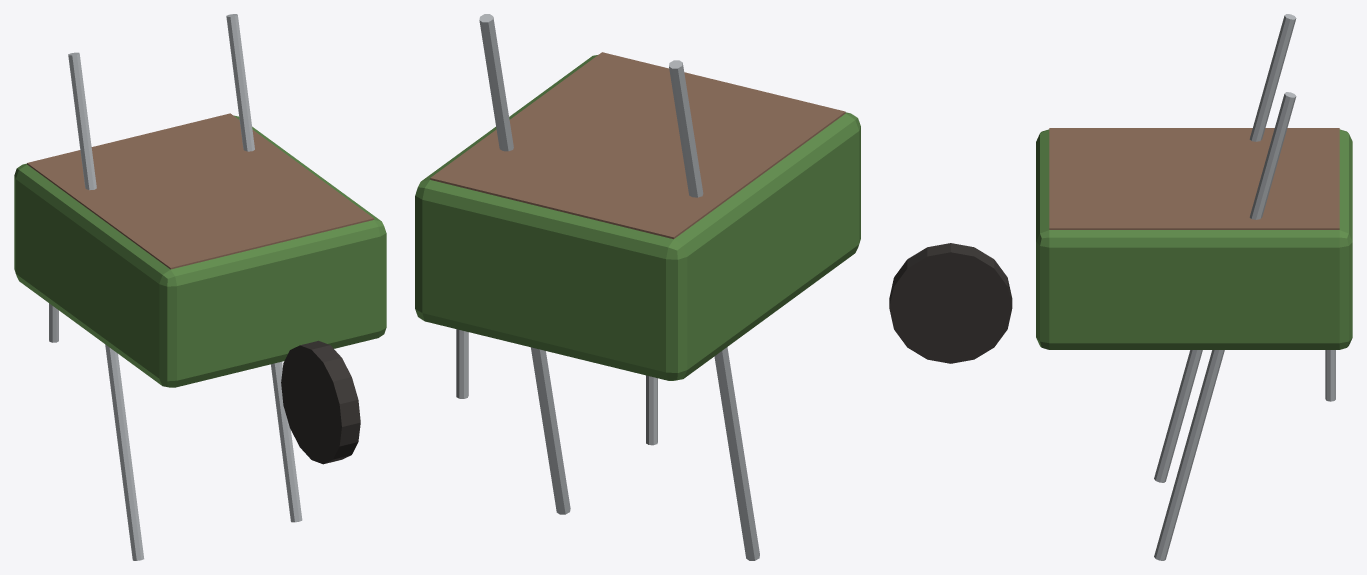
Rendered from hh_wheelbarrow.glb.
3 views of the same model, side by side, from view 1: azimuth 30°, elevation 25°; view 2: azimuth 150°, elevation 25°; view 3: azimuth 270°, elevation 25° (orthographic). The views are drawn at different scales.
Parts seen in each view (by area): view 1: tray, soil, wheel, handle, handle.001; view 2: tray, soil, handle, handle.001, leg.001, leg; view 3: tray, soil, wheel, handle.001, handle.
Part boxes in pixels (bbox=[...]): tray: bbox=[14, 115, 386, 387]; soil: bbox=[27, 113, 373, 269]; wheel: bbox=[281, 340, 360, 464]; handle: bbox=[68, 52, 144, 560]; handle.001: bbox=[226, 14, 302, 522]; tray: bbox=[415, 55, 860, 380]; soil: bbox=[430, 52, 845, 239]; handle: bbox=[669, 60, 759, 560]; handle.001: bbox=[479, 14, 570, 514]; leg.001: bbox=[456, 329, 468, 398]; leg: bbox=[646, 375, 657, 445]; tray: bbox=[1036, 129, 1352, 349]; soil: bbox=[1049, 128, 1339, 229]; wheel: bbox=[889, 243, 1012, 363]; handle.001: bbox=[1154, 92, 1296, 560]; handle: bbox=[1154, 14, 1296, 482].
Bounding box in the file's own units: 0.6 × 1.17 × 1.05.
